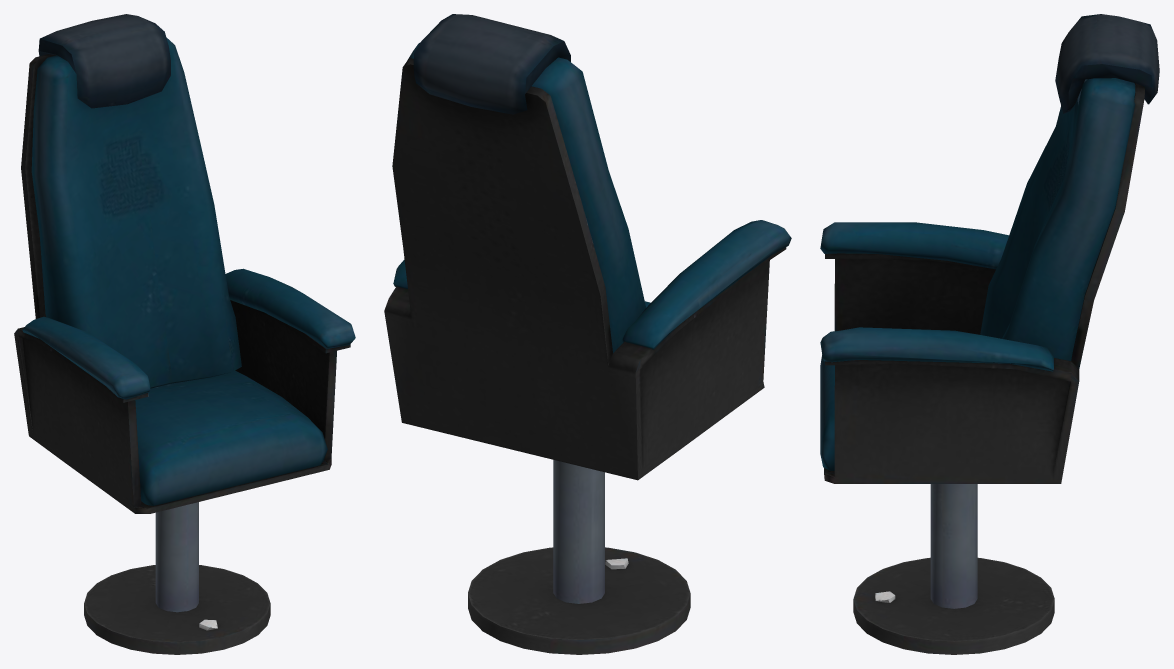
Rendered from rapid.obj.
3 renders of one model, left to right at view 1: azimuth 30°, elevation 25°; view 2: azimuth 150°, elevation 25°; view 3: azimuth 270°, elevation 25°, orthographic. The views are drawn at different scales.
Parts seen in each view (by area): view 1: mesh_0; view 2: mesh_0; view 3: mesh_0.
Boxes of the visible parts, x1,y1,x2,y2 form: mesh_0: (14, 14, 355, 654); mesh_0: (384, 14, 791, 654); mesh_0: (820, 14, 1159, 654).
Bounding box in the file's own units: 0.6404 × 1.37 × 0.7254.
1 material, 1 textured.
